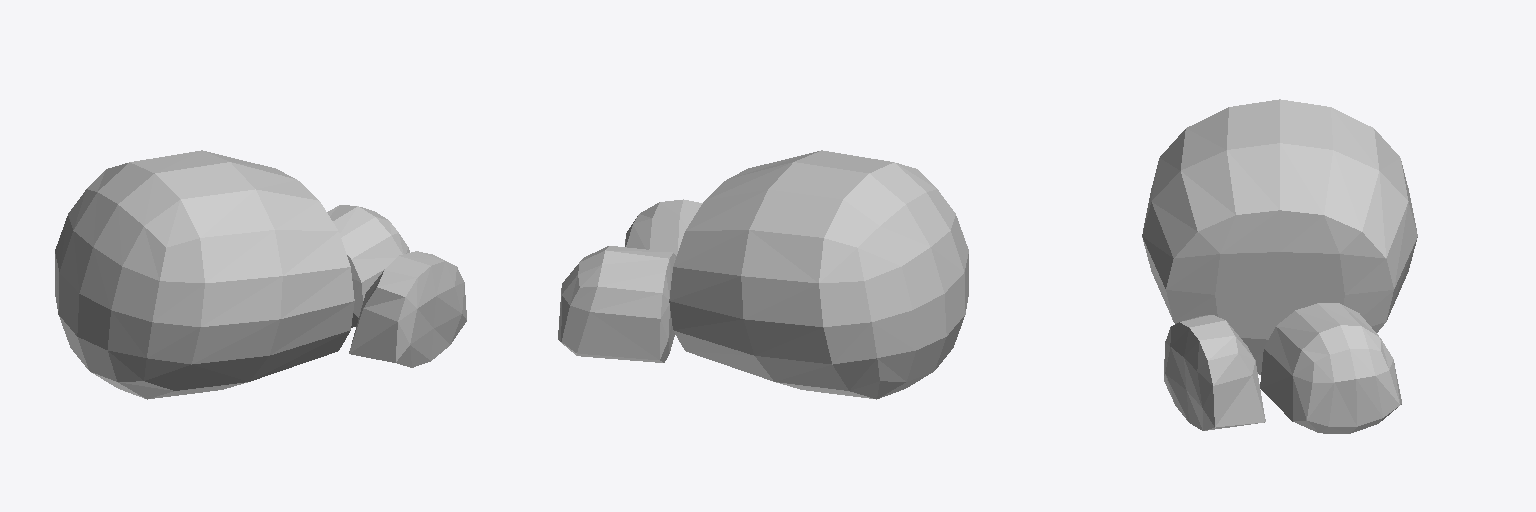
File: food_ingredient_potato_chopped.obj
The picture shows the model from 3 angles: view 1: azimuth 30°, elevation 25°; view 2: azimuth 150°, elevation 25°; view 3: azimuth 270°, elevation 25°; orthographic projection.
Visible parts, largest first — view 1: food_ingredient_potato_chopped_Cube.18438; view 2: food_ingredient_potato_chopped_Cube.18438; view 3: food_ingredient_potato_chopped_Cube.18438.
Boxes of the visible parts, box(x1,y1,x2,y2) form: food_ingredient_potato_chopped_Cube.18438: box(55, 150, 466, 399); food_ingredient_potato_chopped_Cube.18438: box(558, 150, 968, 399); food_ingredient_potato_chopped_Cube.18438: box(1142, 99, 1417, 433).
Size of the model in its own units: 1.05 by 0.6 by 0.7.